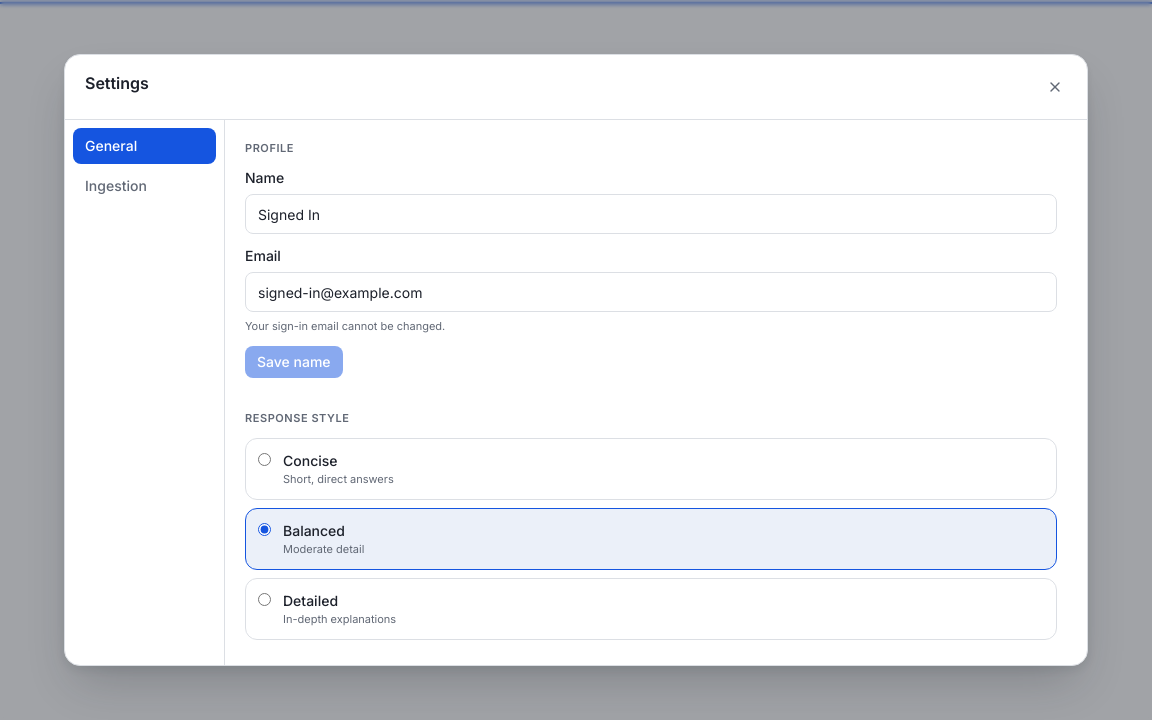
SettingsDialog Ingestion section job history › paginates through job history using Next and Previous
This screenshot has width=1152, height=720.
Click the tab "Ingestion".
click(144, 186)  # box [73,168,216,204]
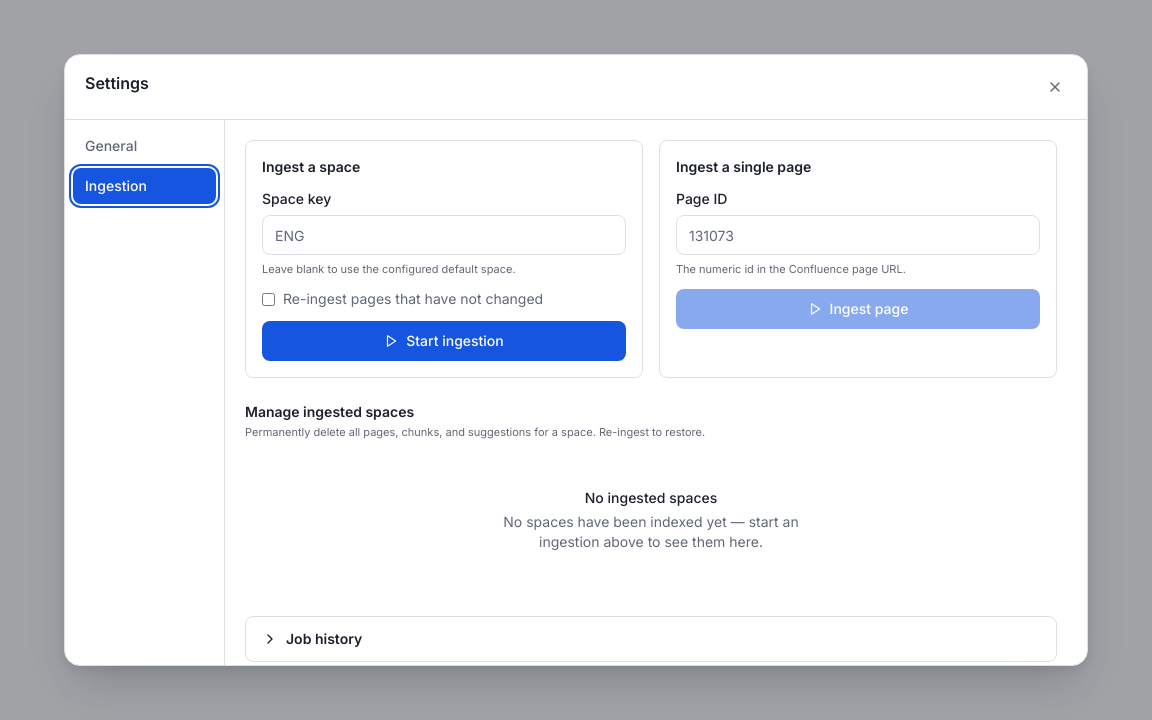
Expected: the heading "Ingest a space" is shown, [262,158,360,175]
Click the button "Job history".
click(324, 638)  # box [254,621,1048,657]
(page scrolled)
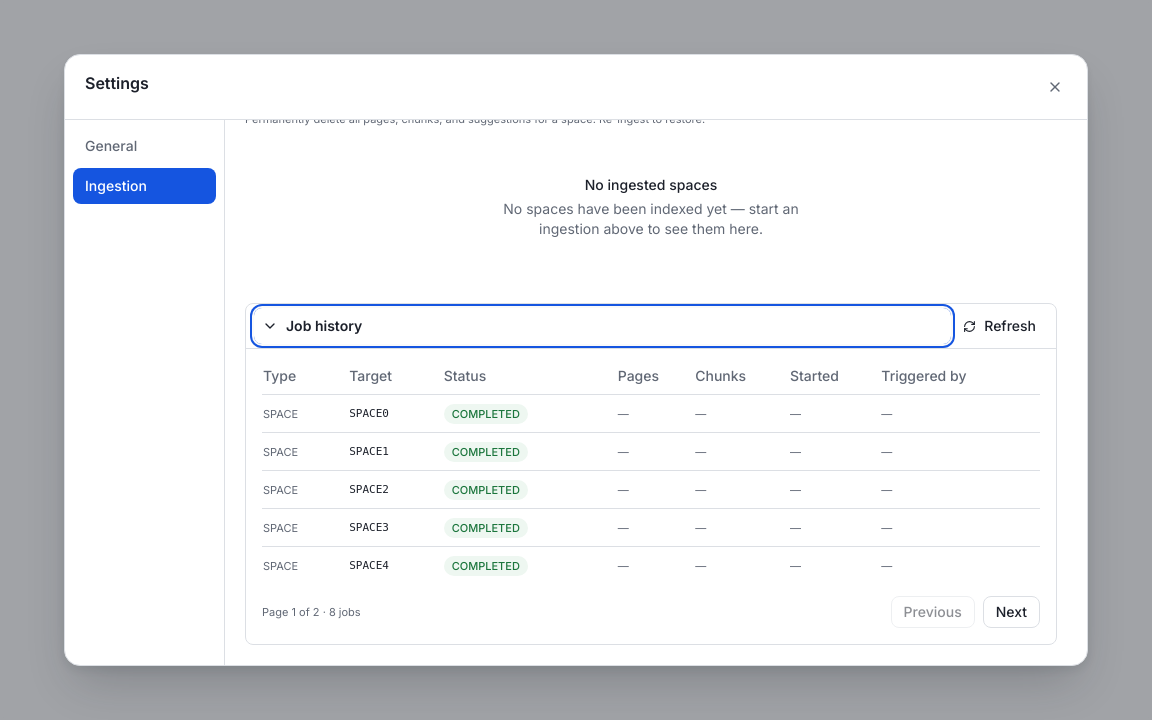
Expected: the text "SPACE0" is shown, [348,395,443,432]
Expected: the text "Page 1 of 2 · 8 jobs" is shown, [262,604,361,620]
Expected: the button "Previous" is disabled, [891,596,975,628]
Click the button "Next".
click(1011, 612)  # box [983,596,1040,628]
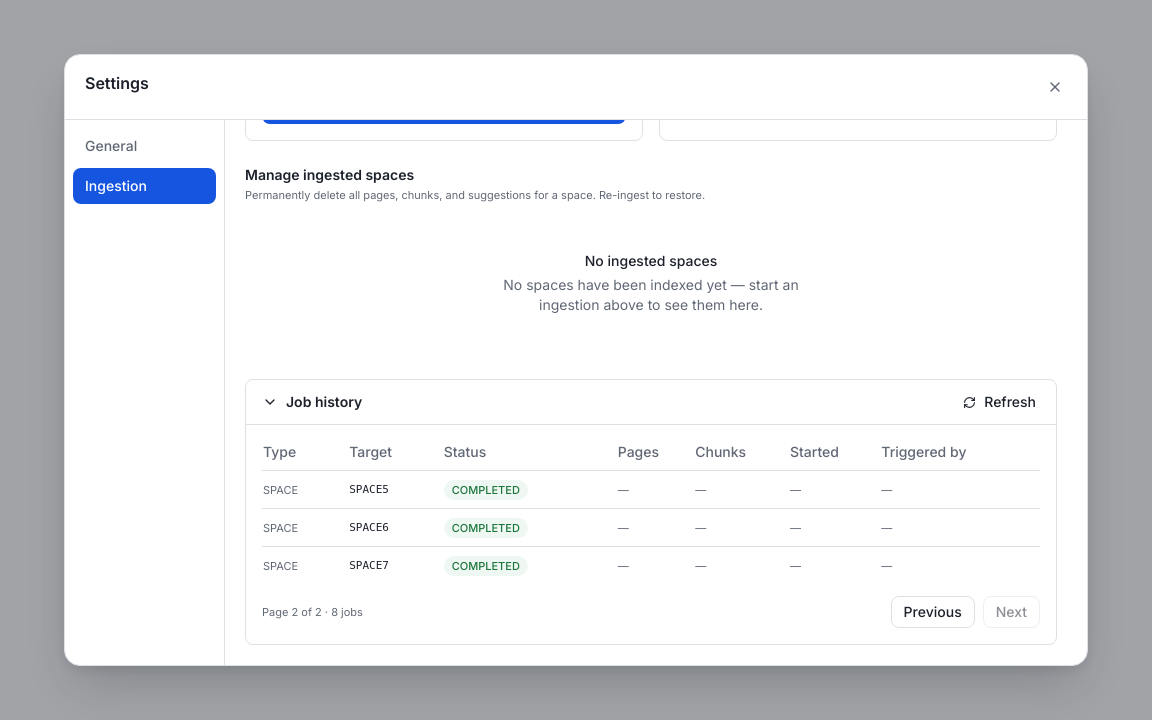
Expected: the text "SPACE5" is shown, [348,471,443,508]
Expected: the text "SPACE0" is gone
Expected: the button "Next" is disabled, [983,596,1040,628]
